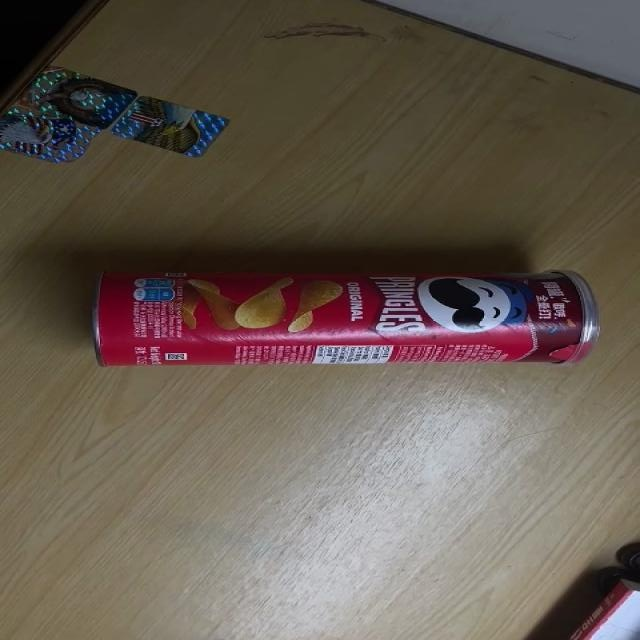Pringles: (95, 268, 600, 369)
